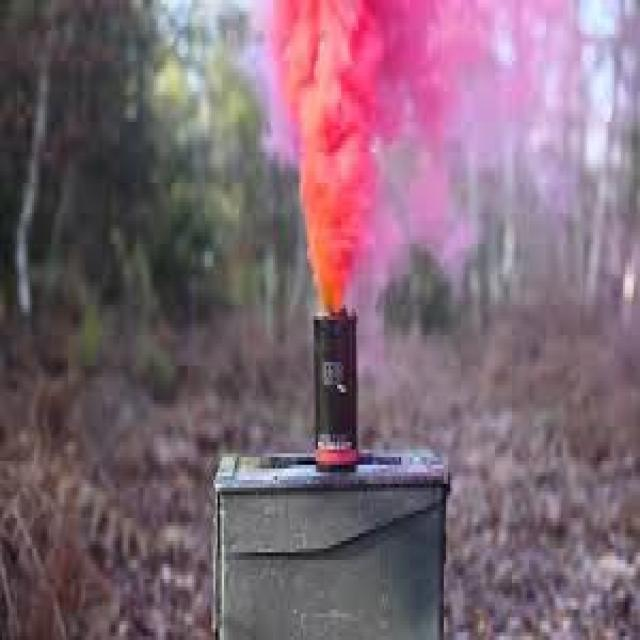Smoke: (249, 0, 579, 316)
